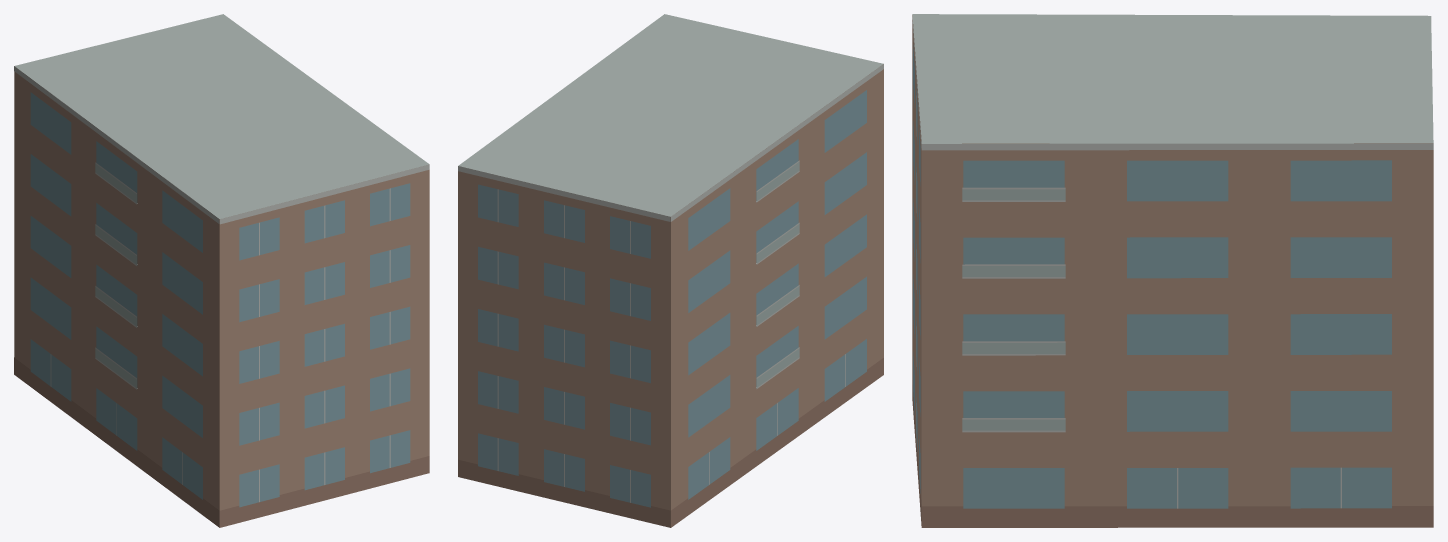
File: survey-upis-33015271.glb
The picture shows the model from 3 angles, left to right: view 1: azimuth 30°, elevation 25°; view 2: azimuth 150°, elevation 25°; view 3: azimuth 270°, elevation 25°; orthographic projection. The views are drawn at different scales.
Parts seen in each view (by area): view 1: survey-upis-33015271.tmp; view 2: survey-upis-33015271.tmp; view 3: survey-upis-33015271.tmp.
Boxes of the visible parts, x1,y1,x2,y2 form: survey-upis-33015271.tmp: (14,14,429,527); survey-upis-33015271.tmp: (458,14,883,527); survey-upis-33015271.tmp: (912,14,1433,527).
Size of the model in its own units: 10.48 by 14.4 by 17.72.
